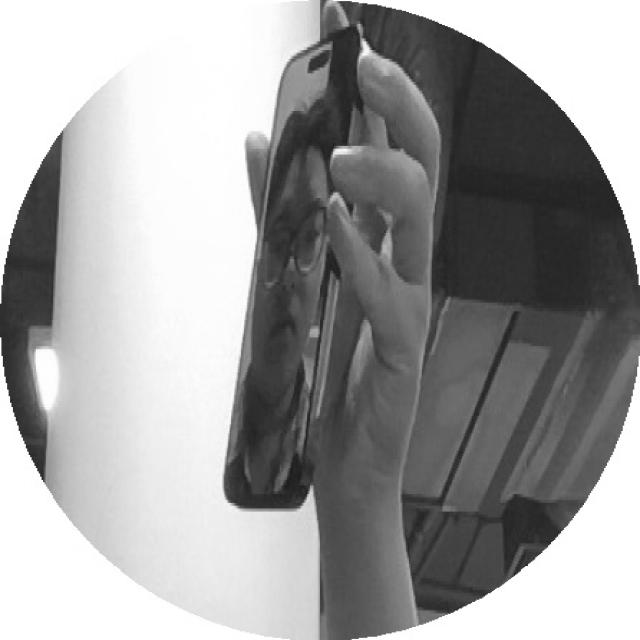fake: (190, 25, 392, 549), (210, 24, 387, 523)
